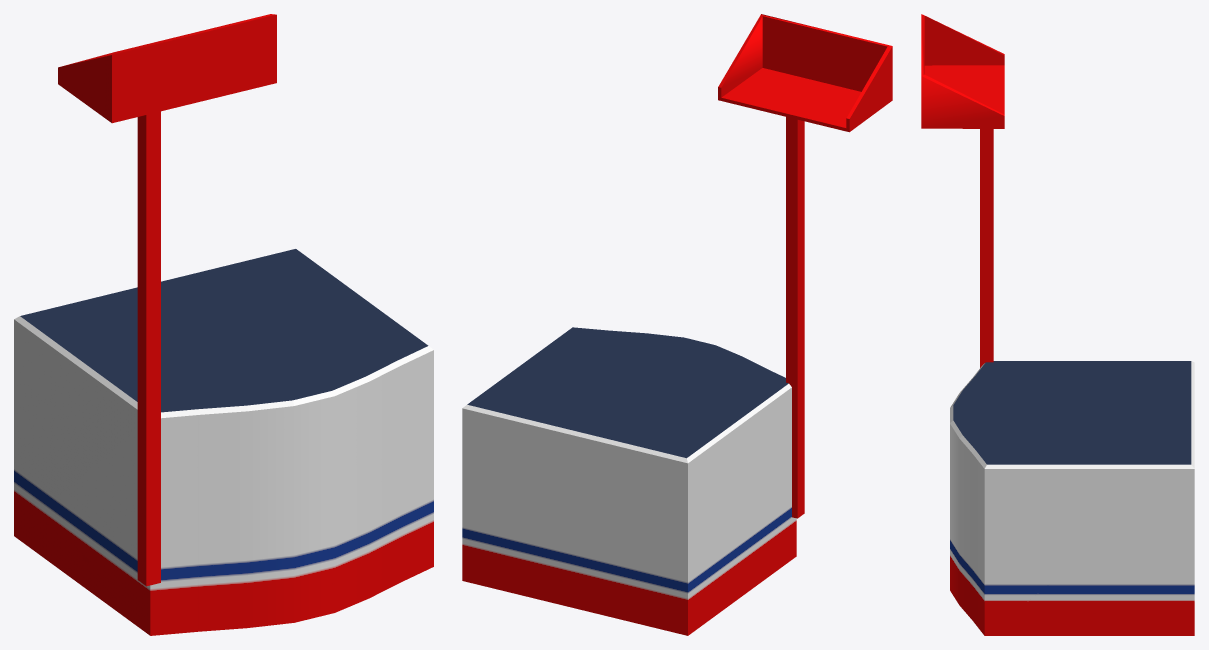
Rendered from Starter_Gun.FBX.
3 renders of one model, left to right at view 1: azimuth 30°, elevation 25°; view 2: azimuth 150°, elevation 25°; view 3: azimuth 270°, elevation 25°, orthographic. The views are drawn at different scales.
Parts seen in each view (by area): view 1: Starter_Gun; view 2: Starter_Gun; view 3: Starter_Gun.
Boxes of the visible parts, left/top/right/bottom form: Starter_Gun: left=14, top=14, right=433, bottom=635; Starter_Gun: left=462, top=14, right=892, bottom=635; Starter_Gun: left=921, top=14, right=1194, bottom=635.
Bounding box in the file's own units: 15.61 × 25.91 × 13.22.
